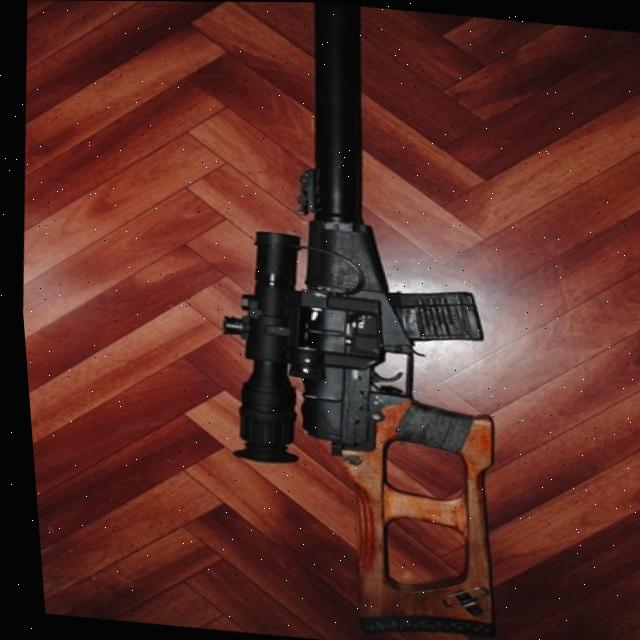firearm: (170, 1, 545, 640)
